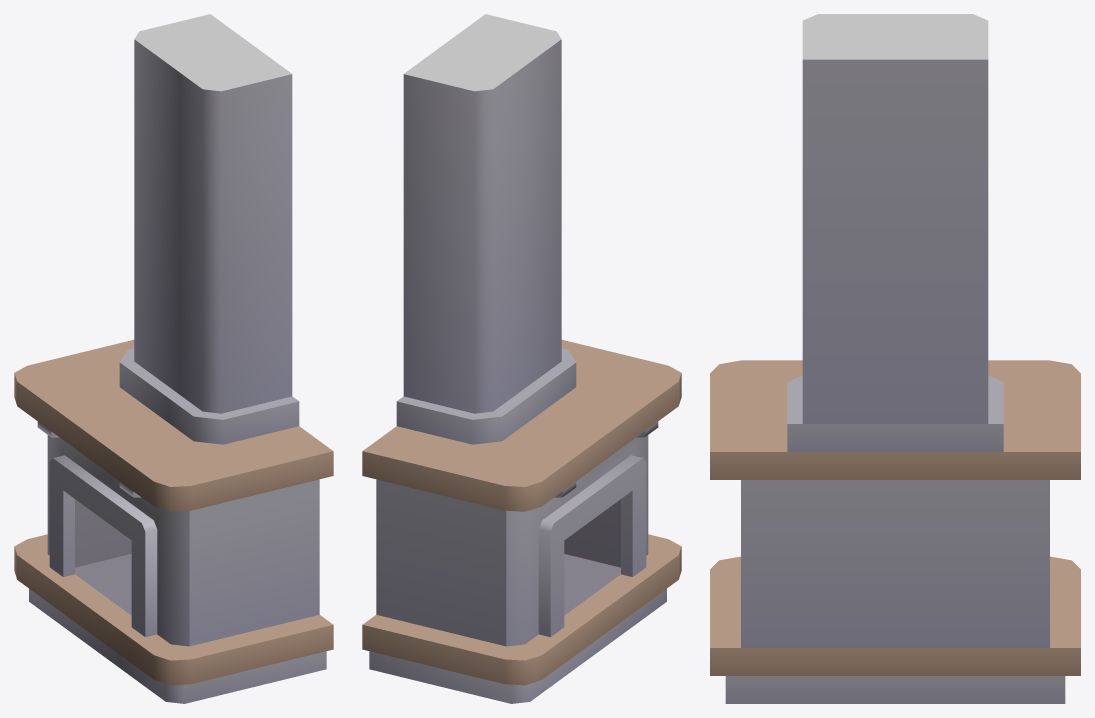
The model's file is fireplace-standard (%thumbnail).glb.
3 views of the same model, side by side, from view 1: azimuth 30°, elevation 25°; view 2: azimuth 150°, elevation 25°; view 3: azimuth 270°, elevation 25° (orthographic). The views are drawn at different scales.
Parts seen in each view (by area): view 1: fireplace-standard (%thumbnail); view 2: fireplace-standard (%thumbnail); view 3: fireplace-standard (%thumbnail).
Part boxes in pixels (<box>): fireplace-standard (%thumbnail): <box>14,14,333,703</box>; fireplace-standard (%thumbnail): <box>362,14,681,703</box>; fireplace-standard (%thumbnail): <box>710,14,1080,703</box>.
Size of the model in its own units: 0.7 by 2.3 by 1.2.
